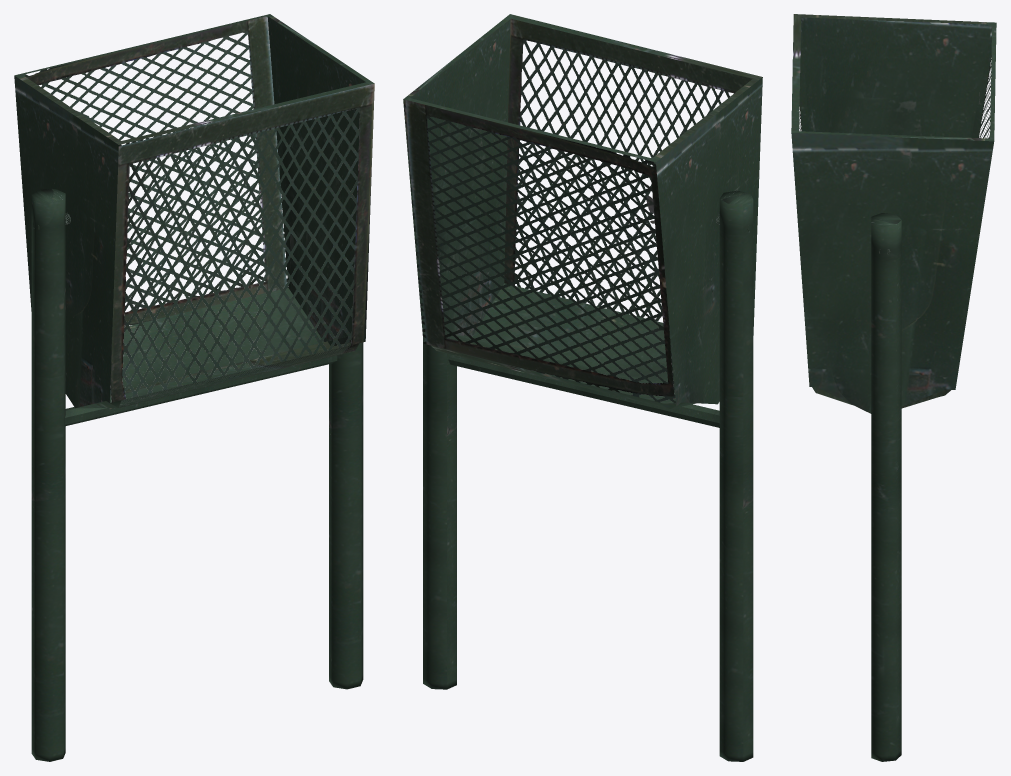
The model's file is trash_cans.glb.
3 renders of one model, left to right at view 1: azimuth 30°, elevation 25°; view 2: azimuth 150°, elevation 25°; view 3: azimuth 270°, elevation 25°, orthographic. The views are drawn at different scales.
Parts seen in each view (by area): view 1: PapeleAnti.002_1, PapeleAnti_2; view 2: PapeleAnti.002_1, PapeleAnti_2; view 3: PapeleAnti.002_1, PapeleAnti_2.
Boxes of the visible parts, box(x1,y1,x2,y2) form: PapeleAnti.002_1: box(14, 14, 374, 408); PapeleAnti_2: box(31, 189, 363, 761); PapeleAnti.002_1: box(403, 14, 762, 408); PapeleAnti_2: box(423, 190, 753, 761); PapeleAnti.002_1: box(791, 14, 996, 413); PapeleAnti_2: box(871, 213, 901, 761).
Bounding box in the file's own units: 0.509 × 0.9511 × 0.2888.
Materials: 1 (1 with a texture image).
